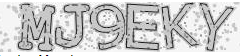9: (89, 3, 126, 51)
E: (125, 2, 162, 51)
J: (54, 3, 91, 50)
K: (160, 2, 199, 51)
M: (17, 2, 56, 51)
Y: (198, 1, 234, 51)
